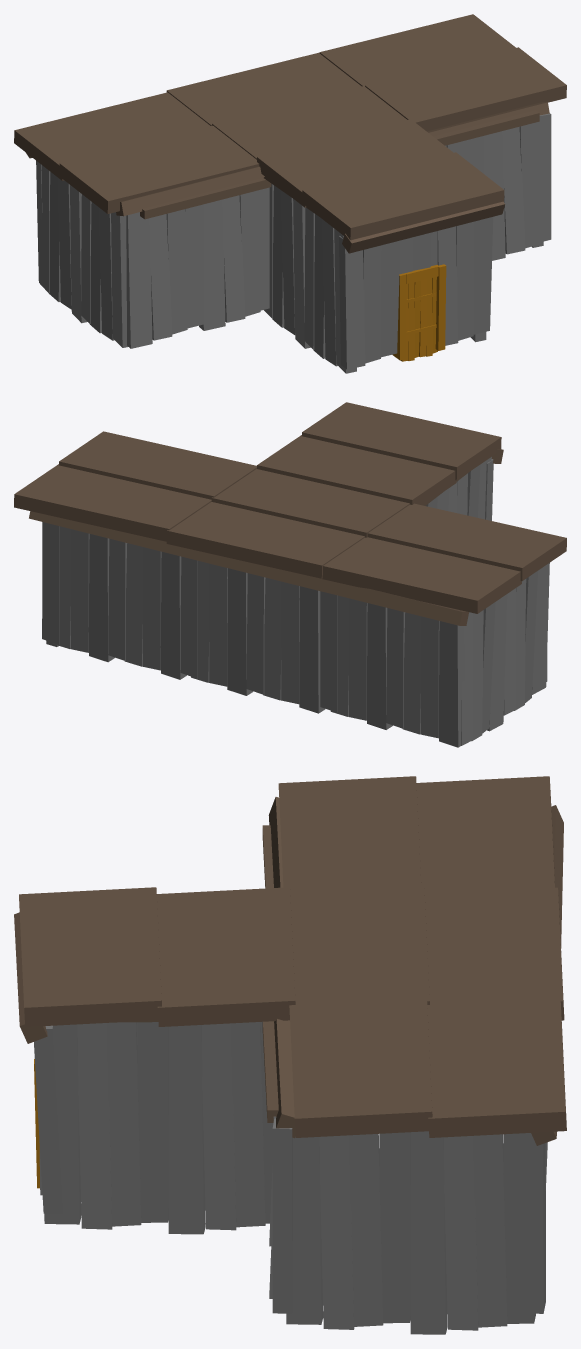
File: Shack 3 2.0.fbx
3 renders of one model, top to bottom at view 1: azimuth 30°, elevation 25°; view 2: azimuth 150°, elevation 25°; view 3: azimuth 270°, elevation 25°, orthographic. The views are drawn at different scales.
Visible parts, largest first — view 1: Cube.112, Cube.109, Cube.111; view 2: Cube.112, Cube.109; view 3: Cube.112, Cube.109.
Boxes of the visible parts, x1,y1,x2,y2 form: Cube.112: (14, 14, 566, 253); Cube.109: (36, 113, 551, 373); Cube.111: (392, 264, 446, 361); Cube.112: (14, 402, 566, 625); Cube.109: (42, 457, 549, 747); Cube.112: (14, 776, 566, 1145); Cube.109: (34, 1021, 547, 1334).
Size of the model in its own units: 2574 by 865 by 1795.
